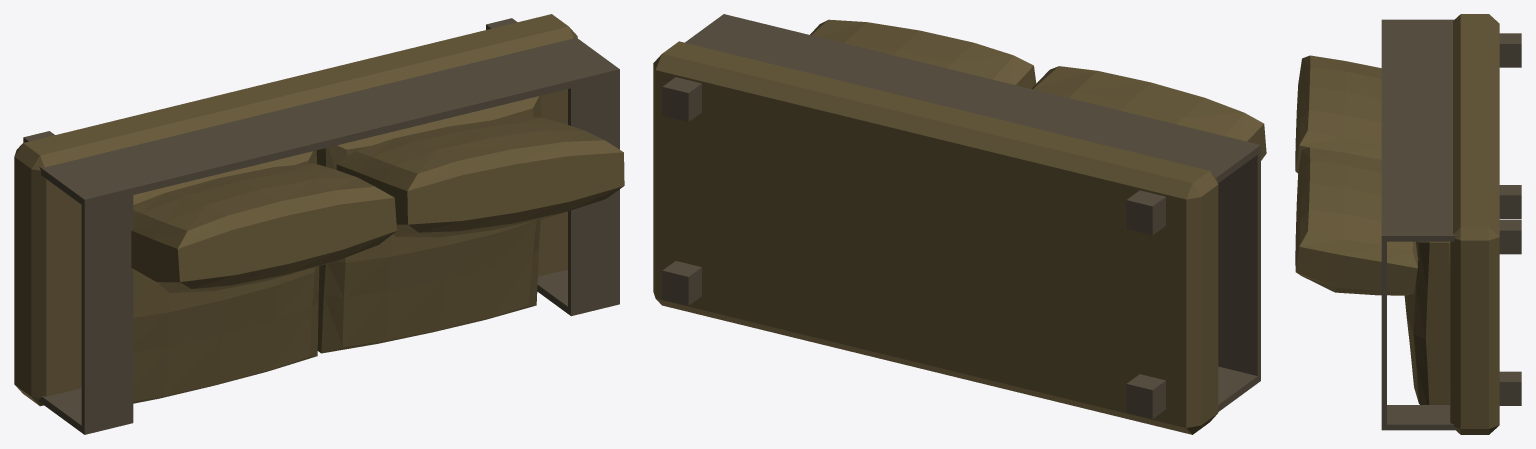
File: sofa-two-seat-2.obj
3 renders of one model, left to right at view 1: azimuth 30°, elevation 25°; view 2: azimuth 150°, elevation 25°; view 3: azimuth 270°, elevation 25°, orthographic. The views are drawn at different scales.
Parts seen in each view (by area): view 1: sofa-two-seat-2; view 2: sofa-two-seat-2; view 3: sofa-two-seat-2.
Boxes of the visible parts, left/top/right/bottom form: sofa-two-seat-2: left=14, top=14, right=624, bottom=434; sofa-two-seat-2: left=653, top=14, right=1266, bottom=434; sofa-two-seat-2: left=1295, top=14, right=1521, bottom=434.
Bounding box in the file's own units: 73.8 × 32.66 × 32.
